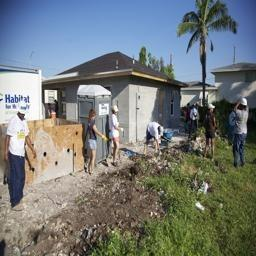hat: (17, 96, 31, 121), (111, 105, 124, 120), (239, 96, 251, 112), (159, 125, 167, 143), (209, 104, 218, 115)
no hat: (86, 108, 100, 126)
no vest: (8, 114, 34, 161), (234, 109, 252, 141), (110, 115, 126, 147), (83, 116, 101, 144), (206, 112, 221, 137), (148, 117, 160, 141)
